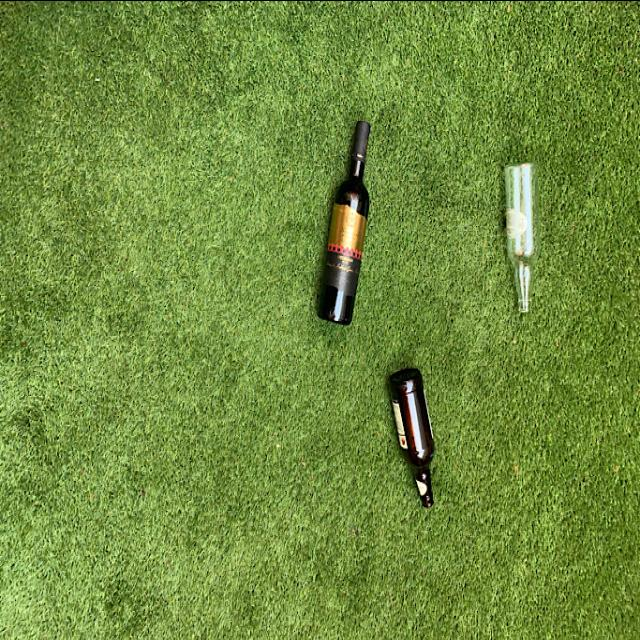Glass Bottle: (316, 111, 381, 332), (382, 365, 443, 515), (501, 156, 539, 316)
